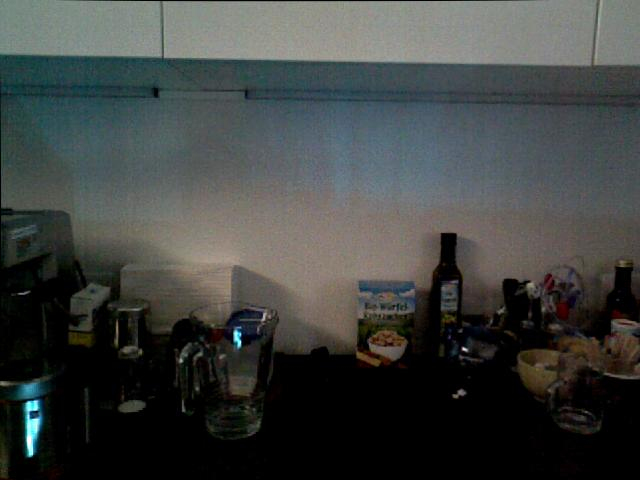bench: (427, 231, 463, 361), (604, 258, 638, 336)
bird: (512, 347, 583, 402), (365, 328, 409, 363)
handbag: (183, 298, 279, 440), (548, 345, 603, 435), (590, 343, 640, 429)
